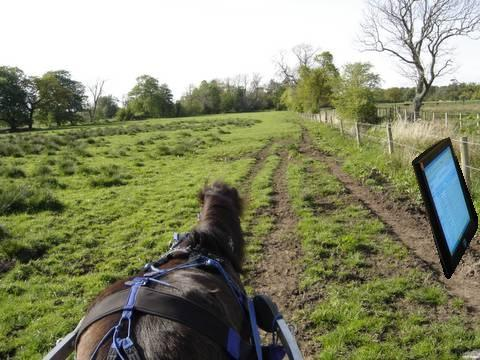tampered: (413, 138, 478, 279)
